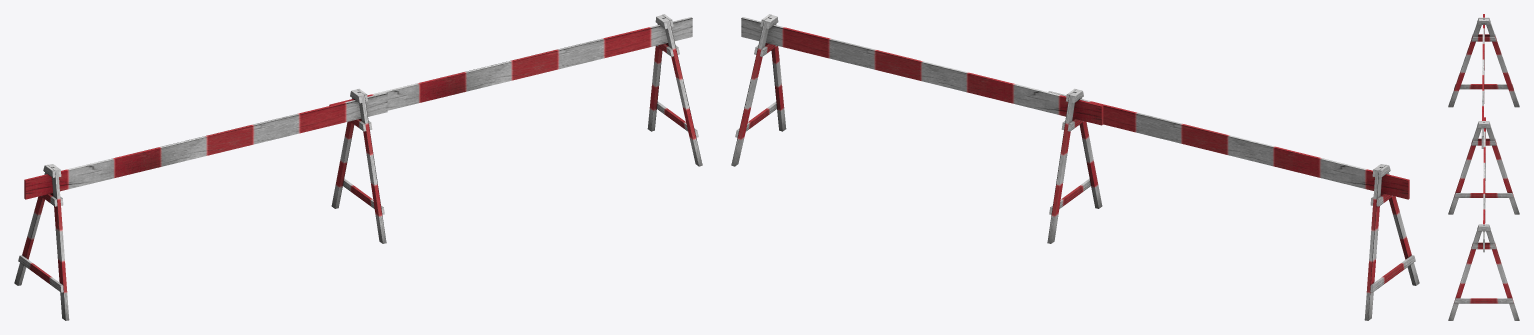
Rendered from barrier_6m.glb.
3 views of the same model, side by side, from view 1: azimuth 30°, elevation 25°; view 2: azimuth 150°, elevation 25°; view 3: azimuth 270°, elevation 25° (orthographic). The views are drawn at different scales.
Visible parts, largest first — view 1: Barieraka_Drewno_6m_0; view 2: Barieraka_Drewno_6m_0; view 3: Barieraka_Drewno_6m_0.
Boxes of the visible parts, <box> form: Barieraka_Drewno_6m_0: <box>14,14,702,320</box>; Barieraka_Drewno_6m_0: <box>731,14,1419,320</box>; Barieraka_Drewno_6m_0: <box>1448,14,1519,320</box>.
Bounding box in the file's own units: 5.54 × 1.05 × 0.74.
1 material, 1 textured.
